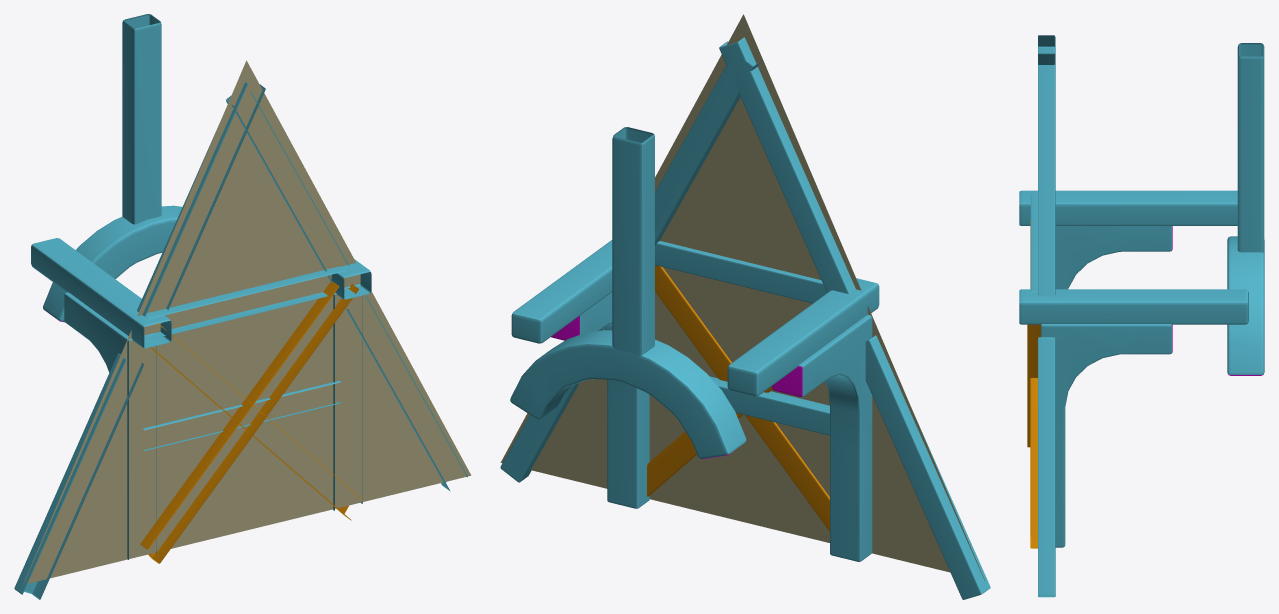
File: SM_Hous2Front_3Floor.fbx
3 renders of one model, left to right at view 1: azimuth 30°, elevation 25°; view 2: azimuth 150°, elevation 25°; view 3: azimuth 270°, elevation 25°, orthographic. The views are drawn at different scales.
Visible parts, largest first — view 1: SM_Hous2Front_3Floor; view 2: SM_Hous2Front_3Floor; view 3: SM_Hous2Front_3Floor.
Boxes of the visible parts, <box> form: SM_Hous2Front_3Floor: <box>14,14,471,599</box>; SM_Hous2Front_3Floor: <box>500,14,990,599</box>; SM_Hous2Front_3Floor: <box>1019,35,1264,597</box>.
Bounding box in the file's own units: 3.1 × 3.19 × 1.44.
